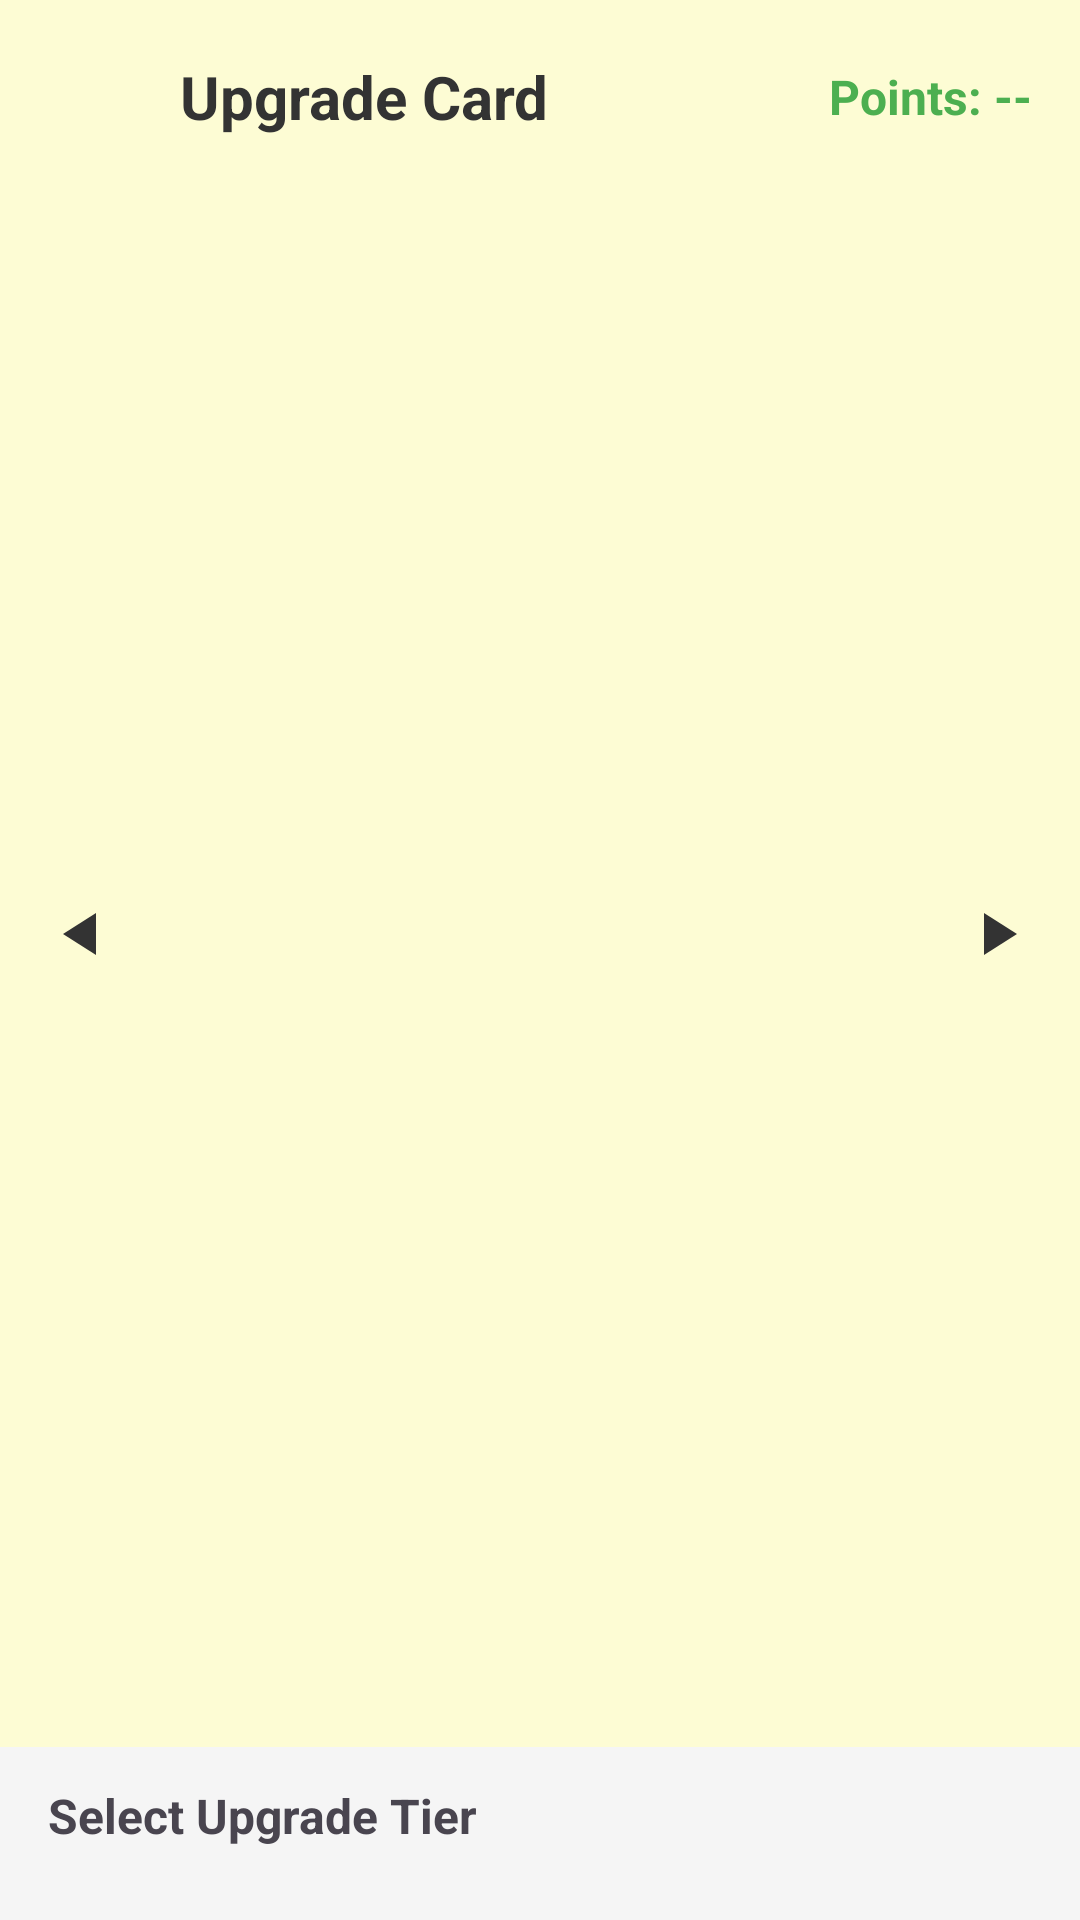

Point at icon controls on the screen. Image size 1080*1920, points as [x,y].
Next Rarity: [1000,934]
Previous Rarity: [79,934]
